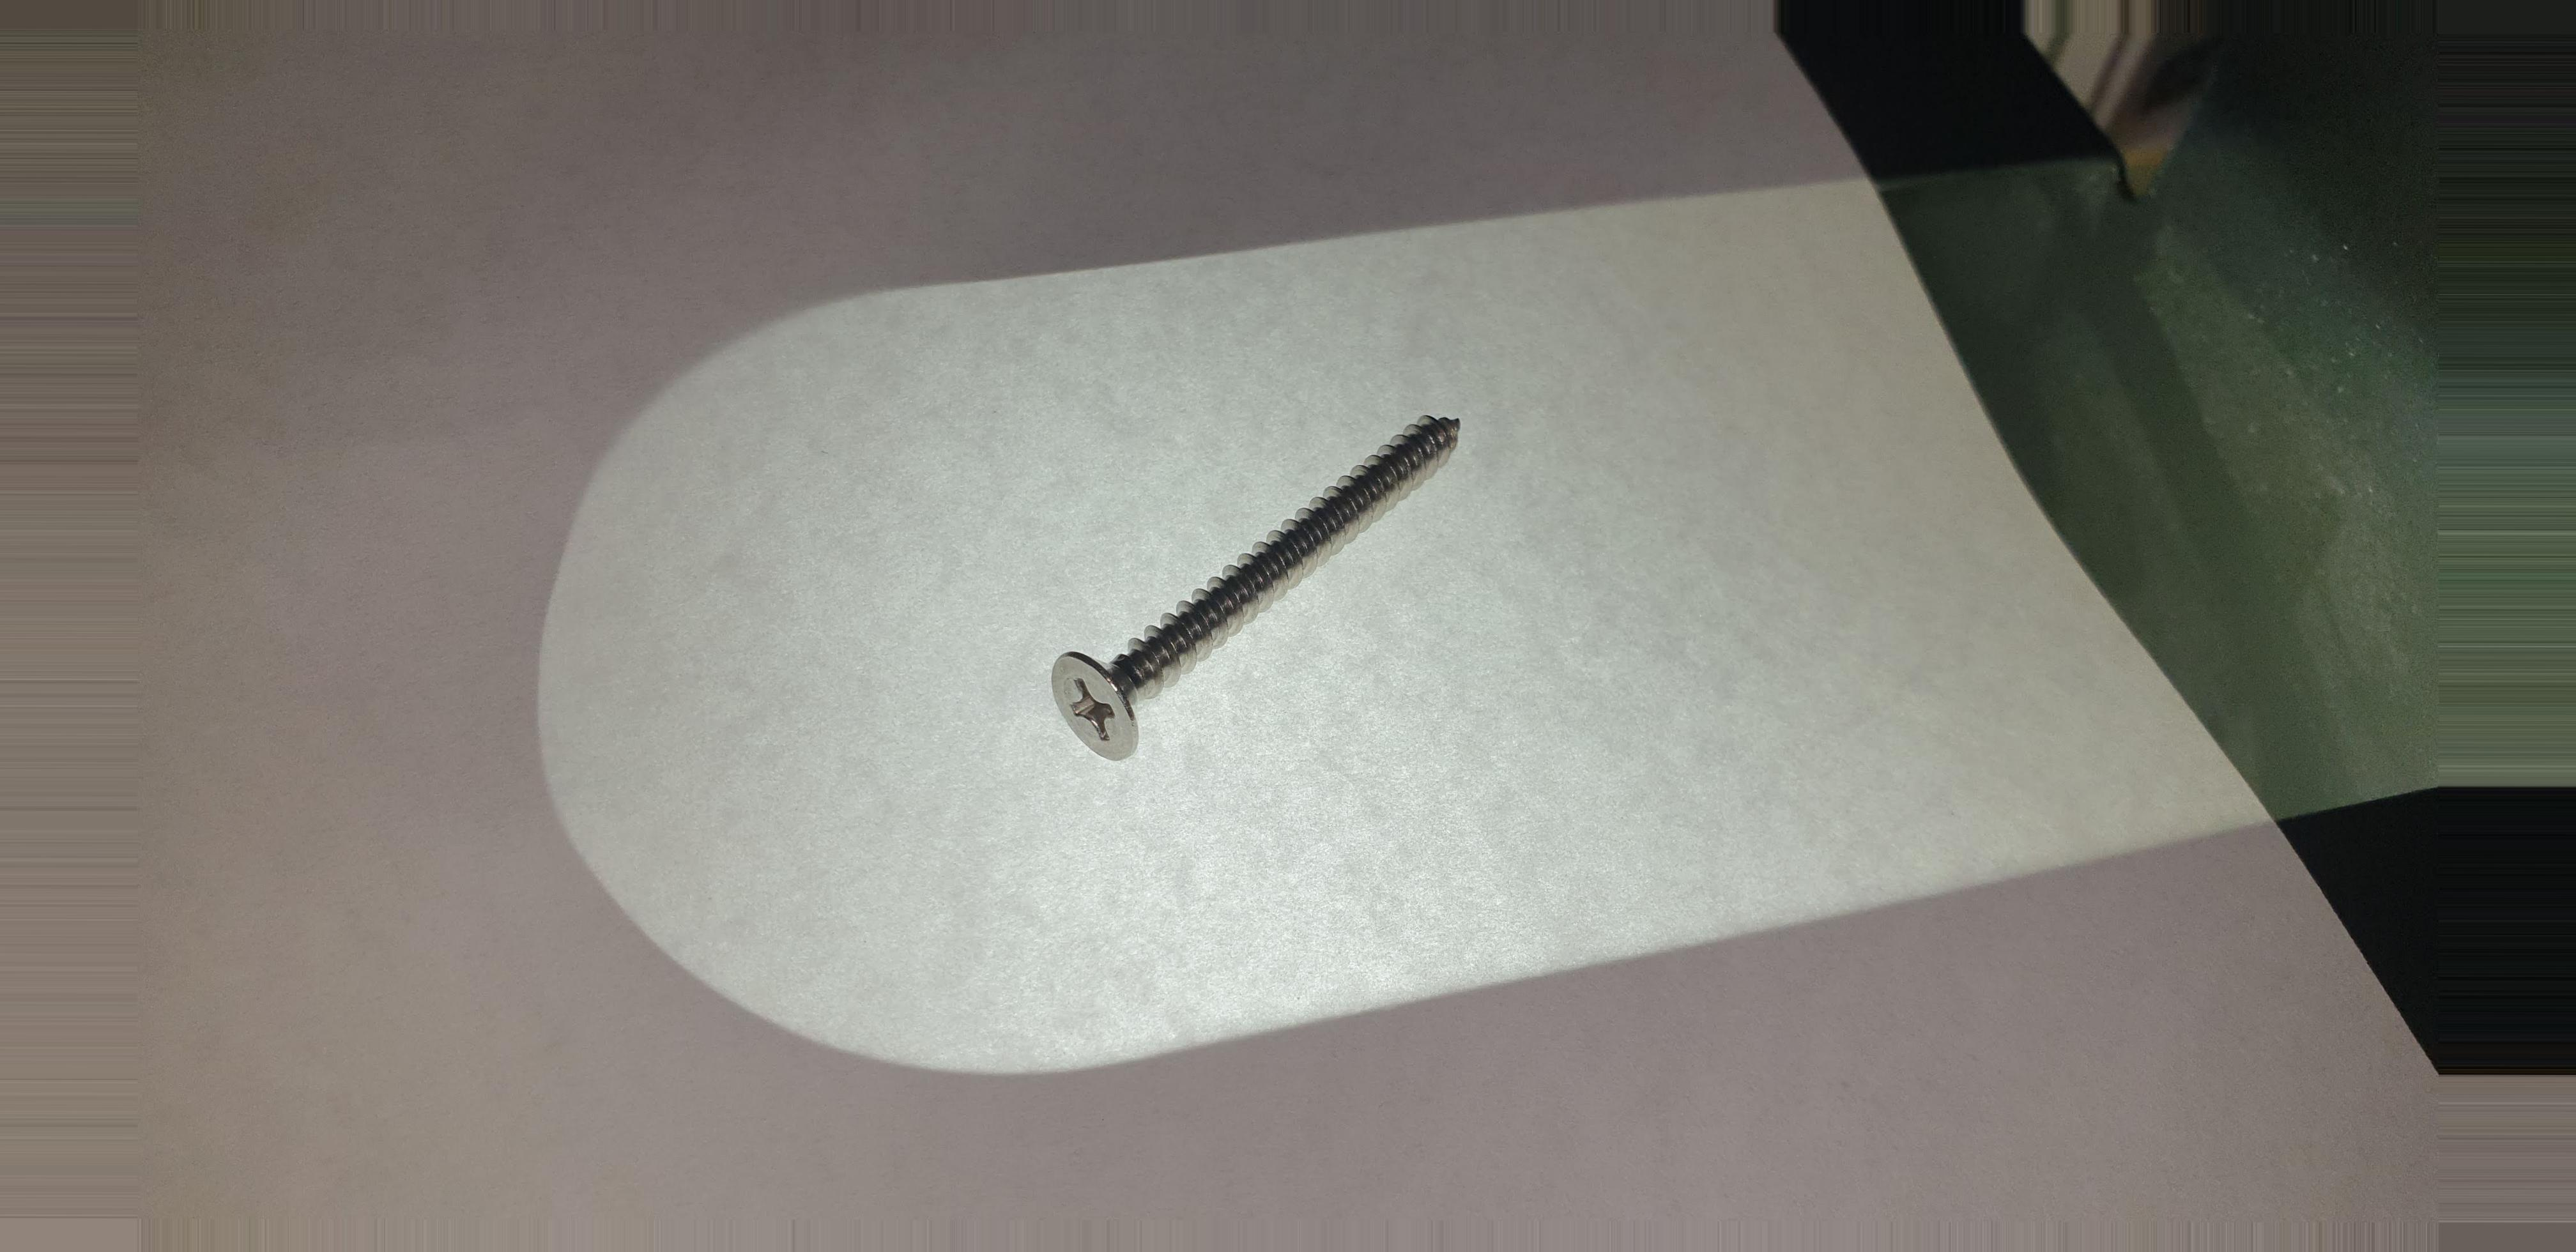fastener: (954, 383, 1521, 789)
